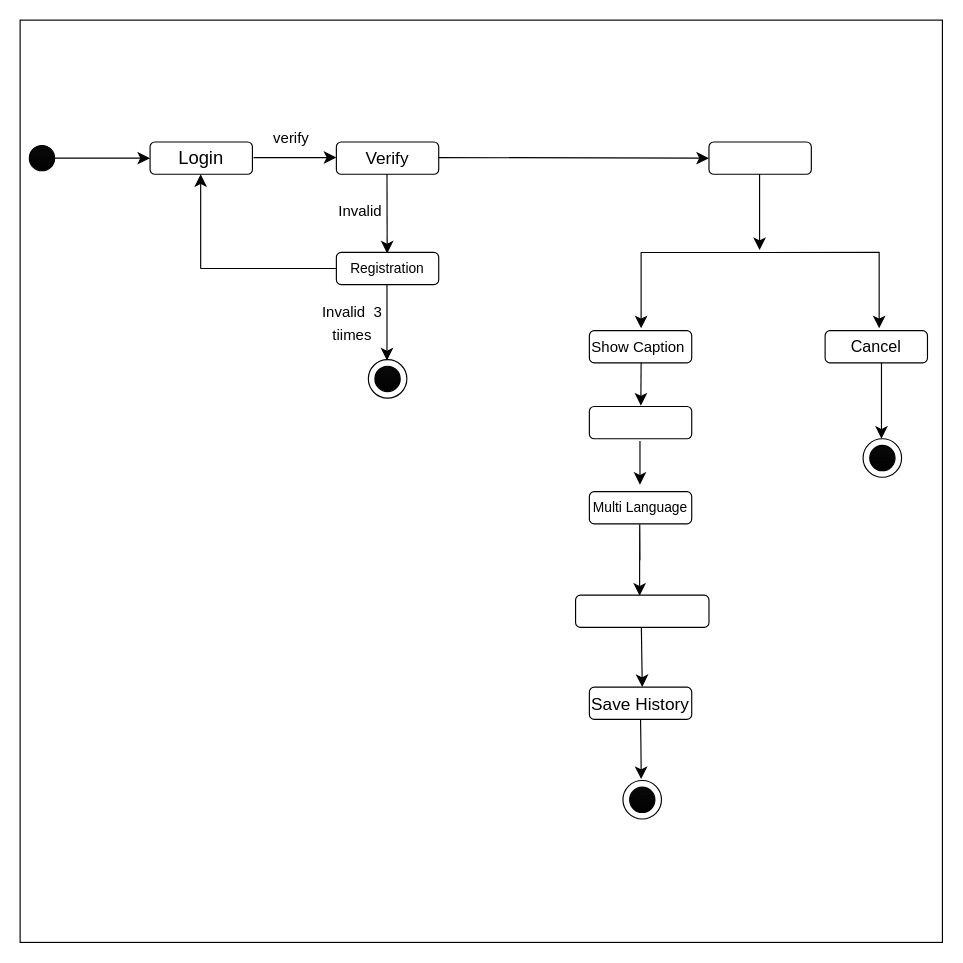
Image size: 963x963. Some labels were removed from this diagram. Each missing label, with the centre of its shape:
Manage History: point (641, 610)
Upload Image: point (759, 157)
Voice Caption: point (640, 422)
